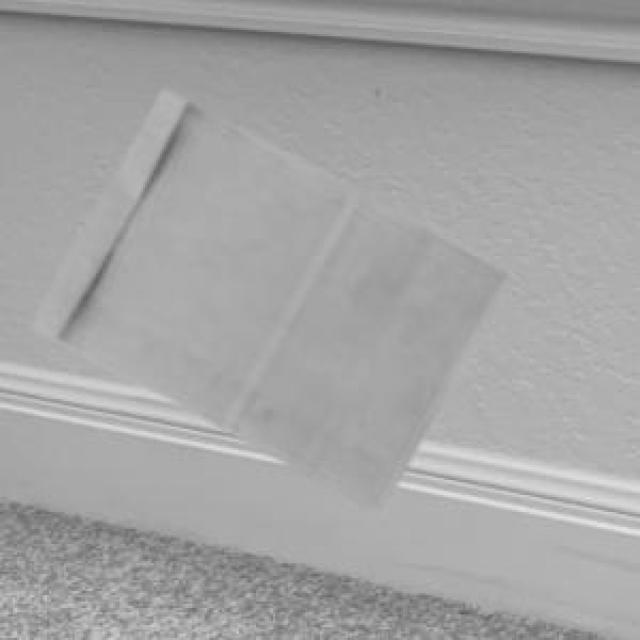paper: (32, 90, 506, 508)
